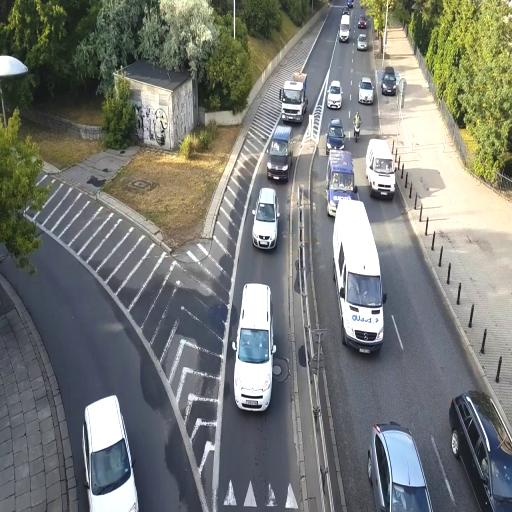vehicle: (332, 195, 386, 355), (449, 389, 512, 510), (82, 394, 140, 512), (368, 420, 432, 512), (233, 282, 273, 411), (326, 149, 357, 218), (402, 166, 447, 212), (365, 139, 396, 200), (252, 188, 278, 252), (266, 125, 292, 181), (279, 75, 307, 124), (280, 75, 307, 125), (266, 132, 292, 182), (326, 120, 344, 153), (381, 67, 398, 96), (358, 76, 375, 104), (326, 81, 342, 110), (339, 11, 351, 43), (339, 12, 351, 43)
